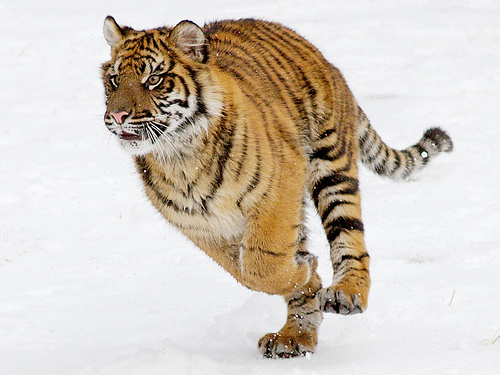Tigre: (81, 6, 461, 366)
